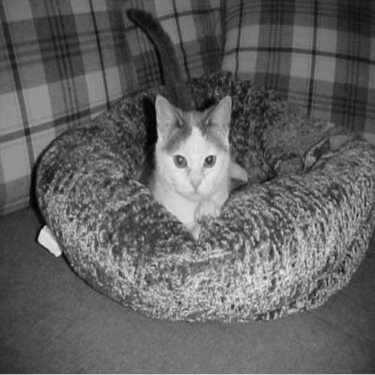cat: (126, 6, 248, 240)
